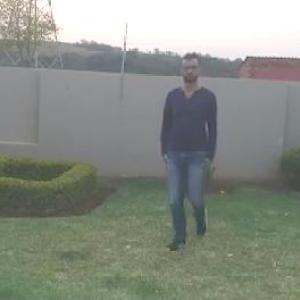follow: (157, 51, 223, 254)
